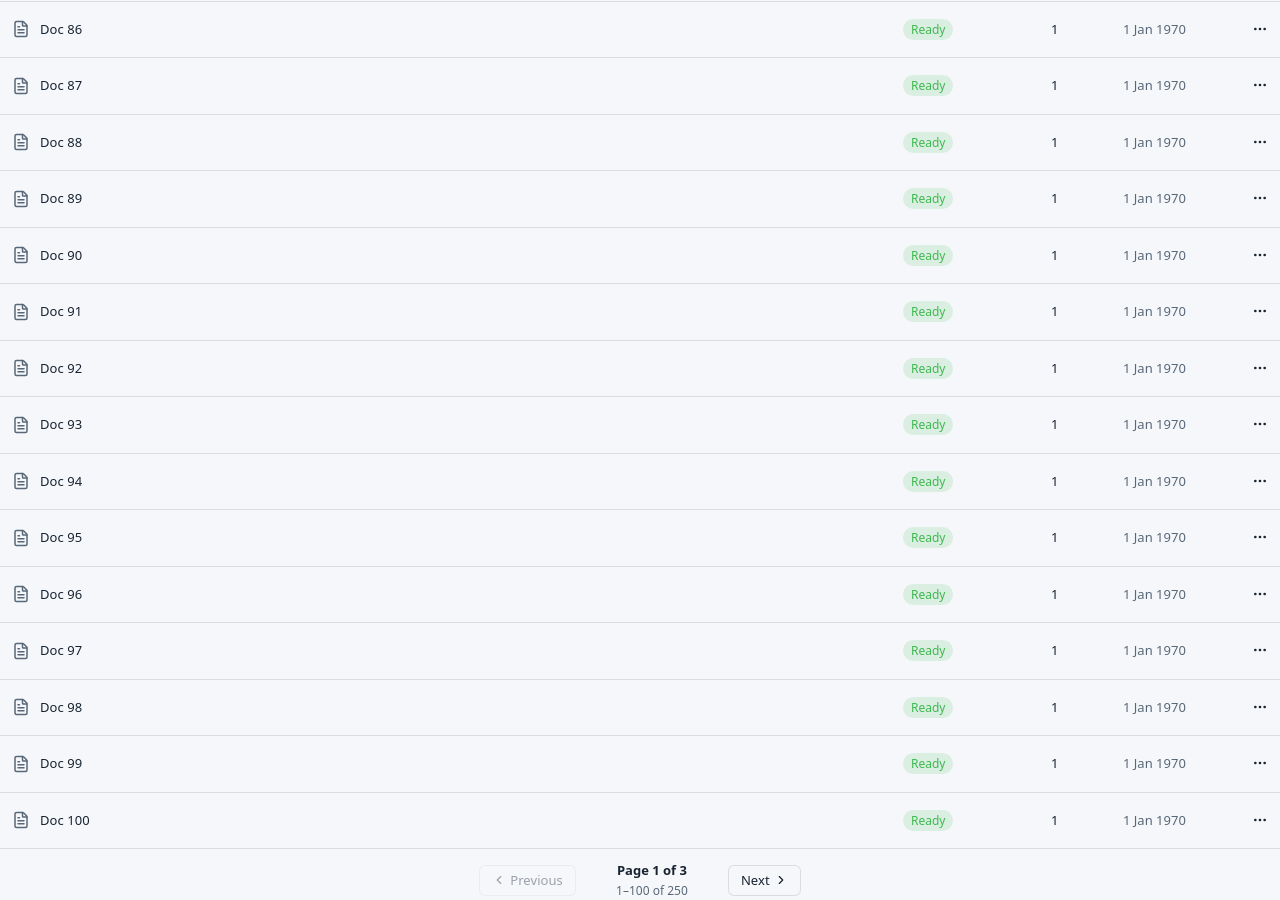
Test case: DocumentTable pagination › caps the page at PAGE_SIZE (100) rows and pages through the rest
This screenshot has width=1280, height=900.
(page scrolled)
Expected: the button "Previous" is disabled, [479,864,576,896]
Click the button "Next": (764, 880) [728,864,801,896]
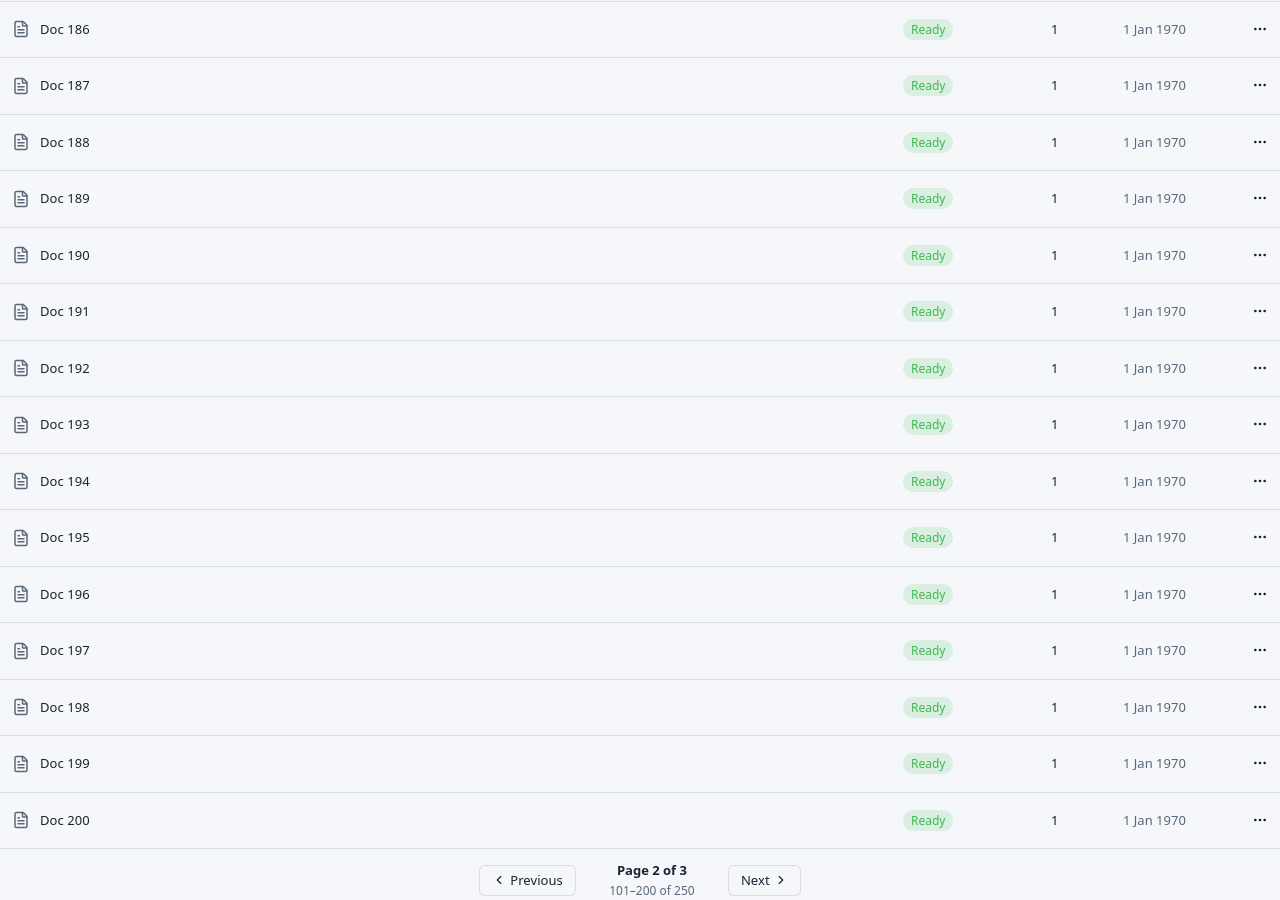
Now the button "Previous" is enabled, box [479,864,576,896]
Click the button "Next": (764, 880) [728,864,801,896]
(page scrolled)
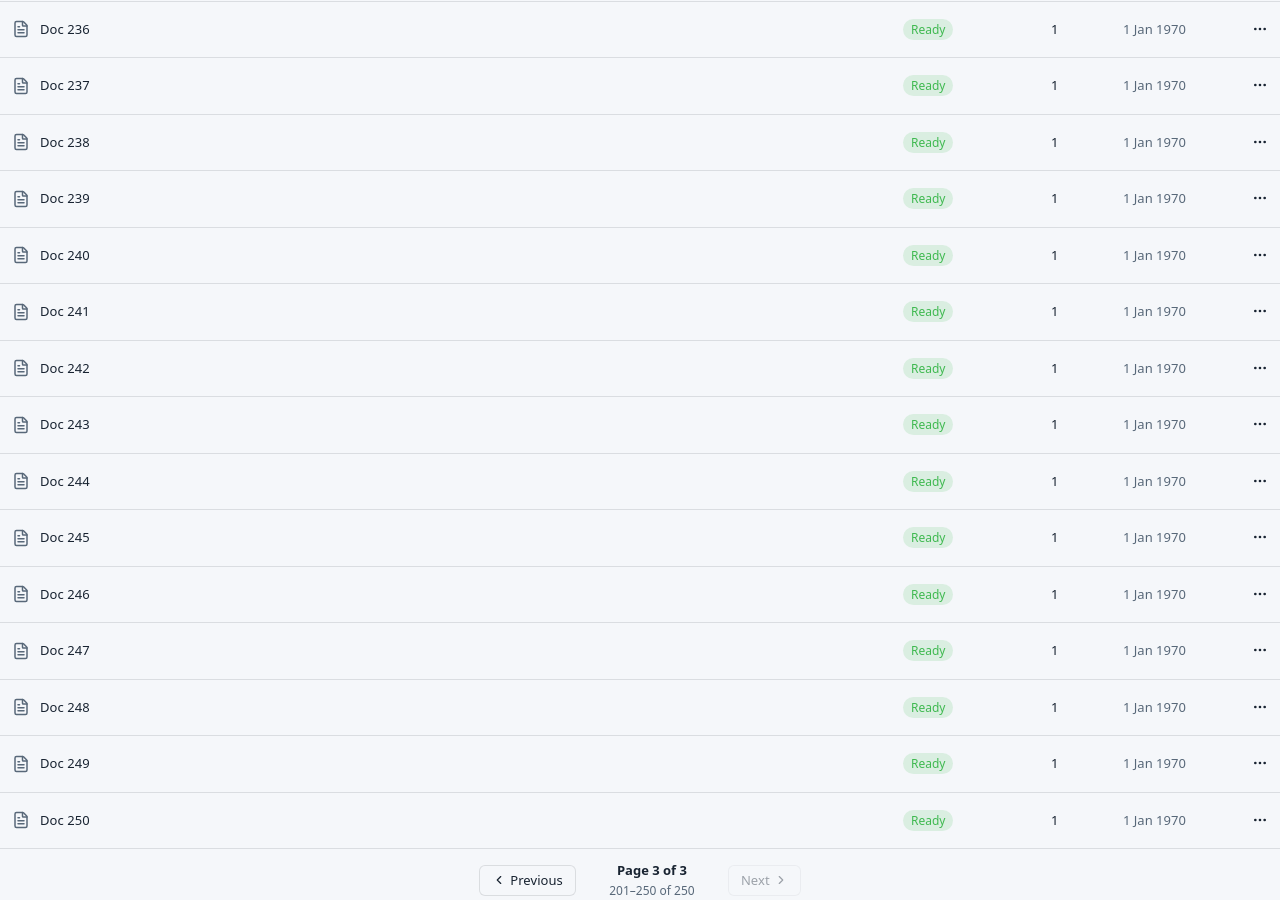
Now the button "Doc 250" is shown, box [40,806,90,834]
Now the button "Next" is disabled, box [728,864,801,896]
